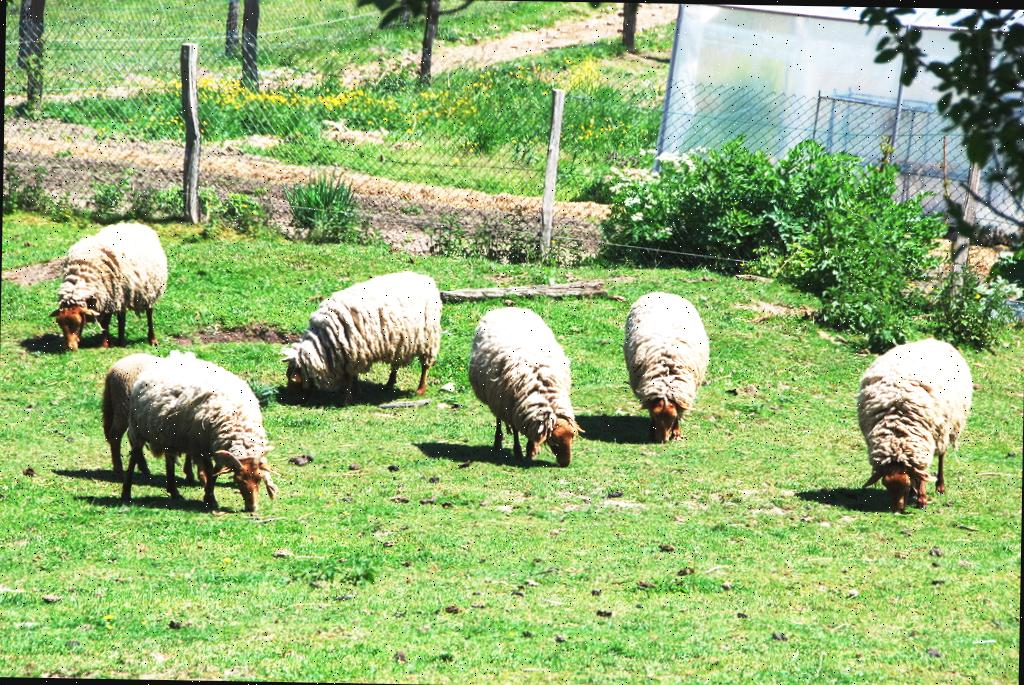Sheep: (122, 346, 274, 518), (854, 338, 978, 512), (464, 305, 589, 469), (282, 270, 440, 399), (46, 220, 170, 353), (624, 290, 713, 437), (102, 352, 198, 488)
